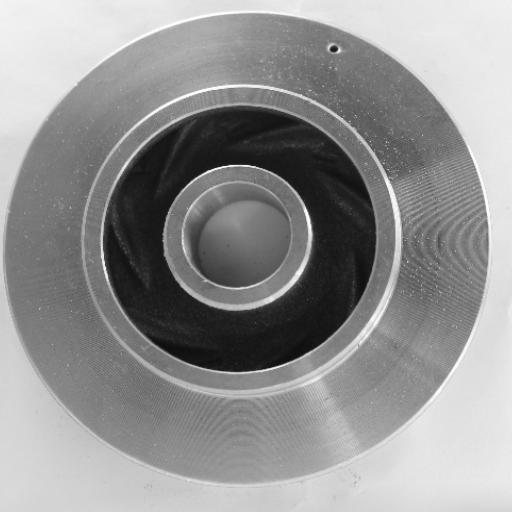pit: (322, 38, 348, 59)
unpolished_casting: (7, 12, 491, 487)
